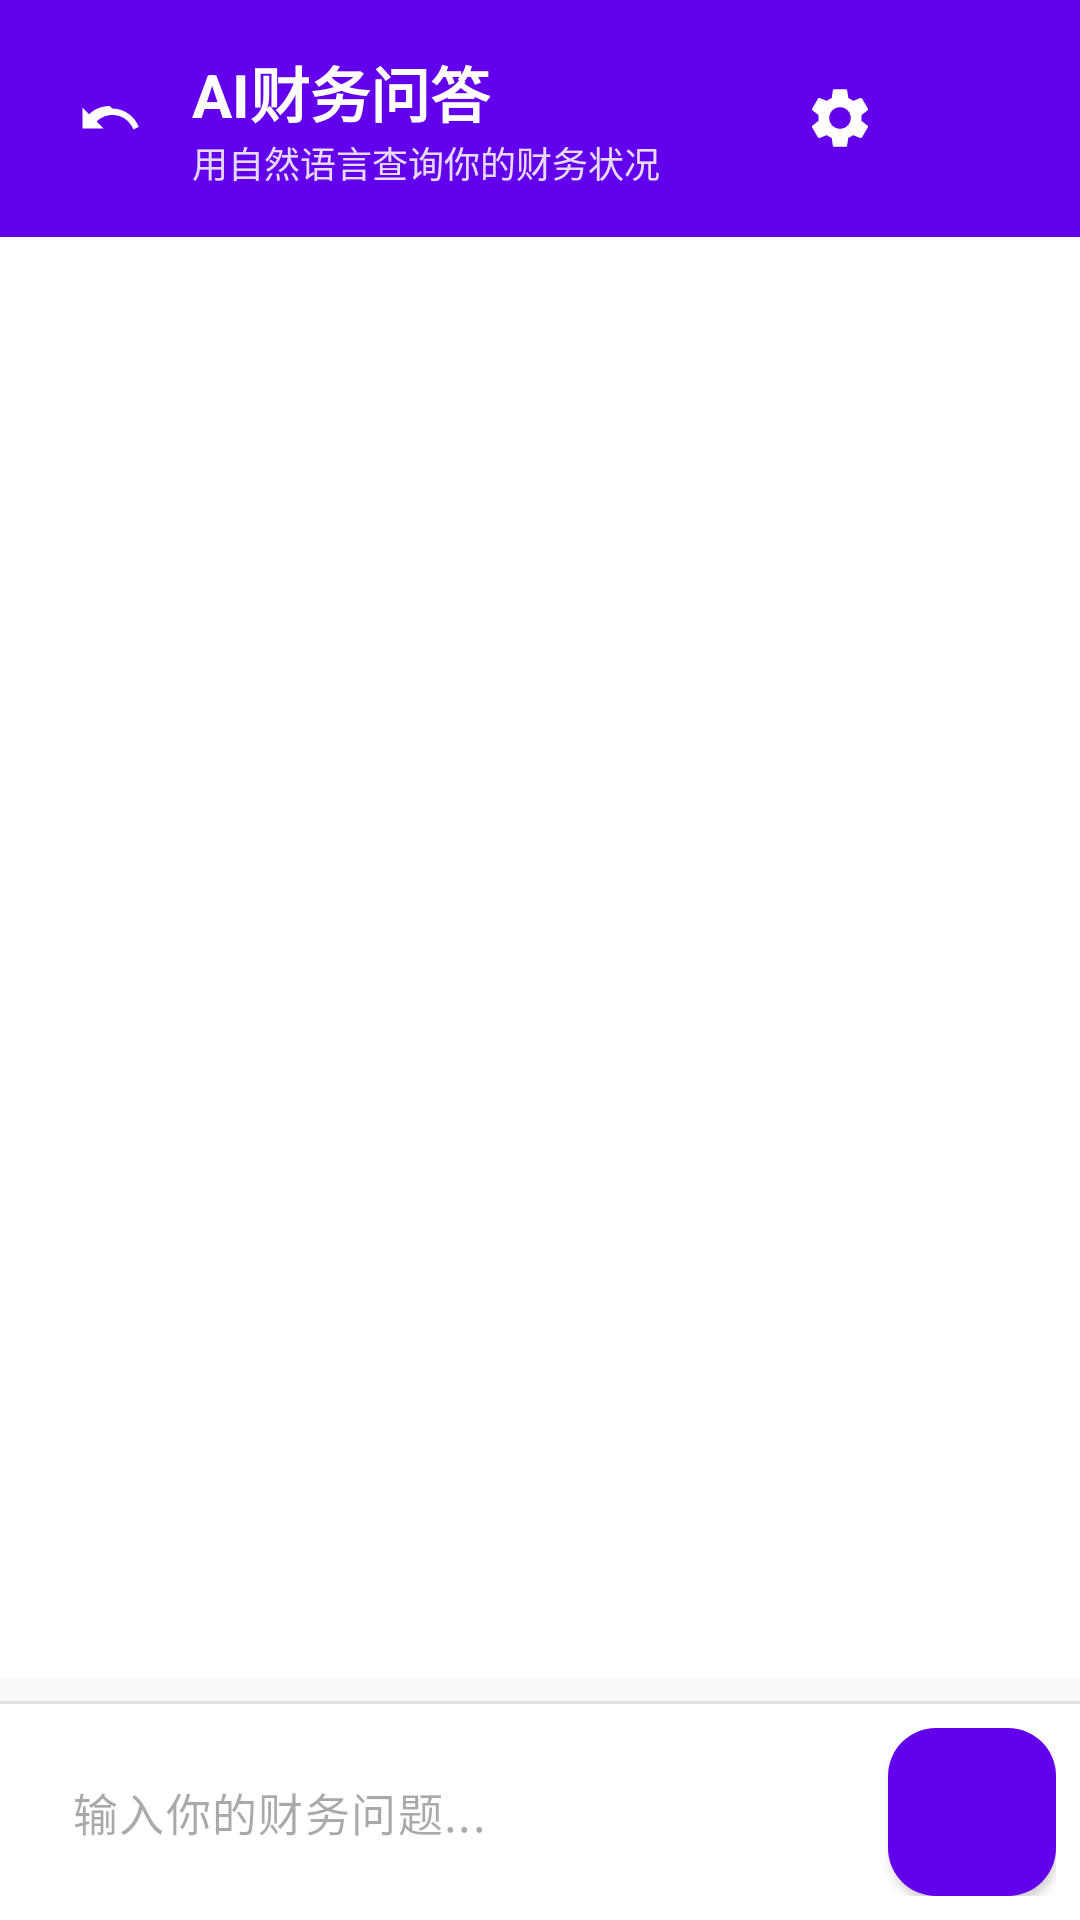

Where to tap for icons on this 1080px×1920px app screen, as (x,y):
API Key设置: (840,118)
返回: (110,118)
